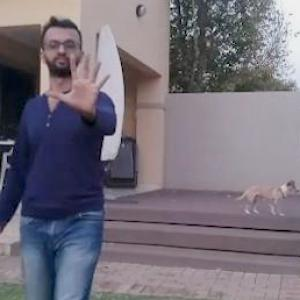follow_hand: (44, 44, 113, 119)
